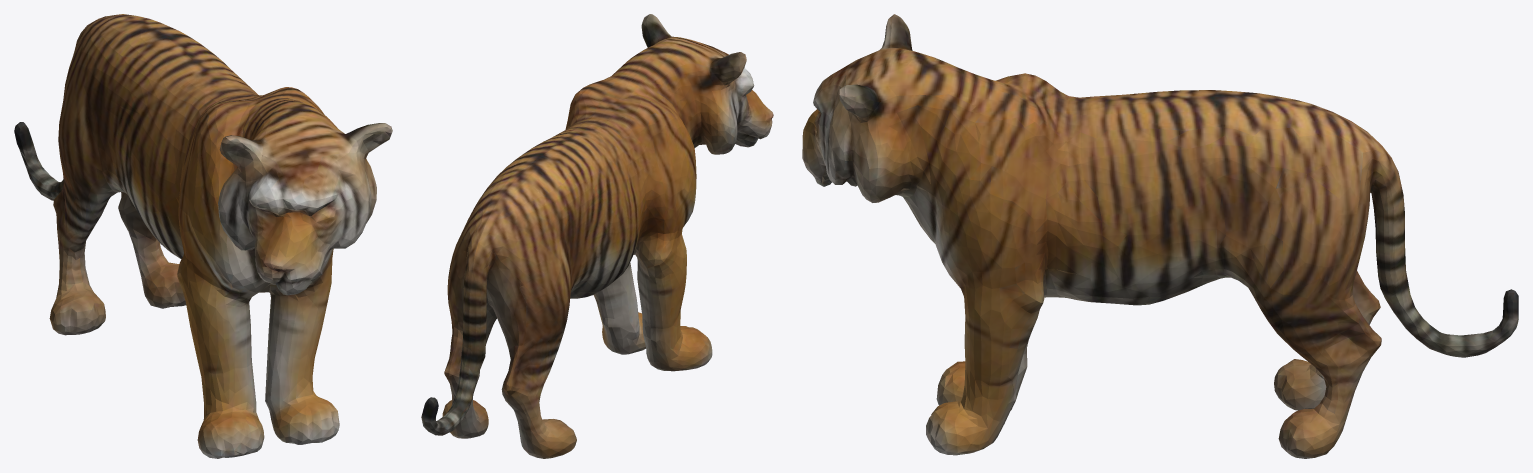
File: tigre.glb
3 views of the same model, side by side, from view 1: azimuth 30°, elevation 25°; view 2: azimuth 150°, elevation 25°; view 3: azimuth 270°, elevation 25° (orthographic). The views are drawn at different scales.
Parts seen in each view (by area): view 1: world; view 2: world; view 3: world.
Boxes of the visible parts, x1,y1,x2,y2 form: world: [14, 14, 392, 458]; world: [421, 14, 773, 458]; world: [802, 14, 1518, 458].
Size of the model in its own units: 0.2904 by 0.5755 by 0.9982.
1 material, 1 textured.
